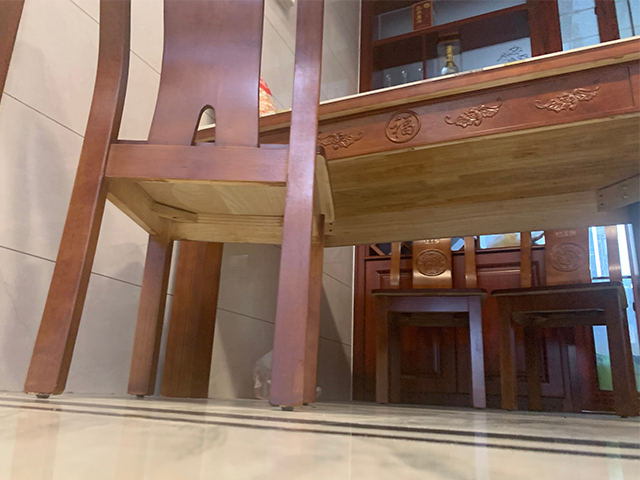stool: (23, 1, 336, 410), (491, 223, 640, 419), (371, 236, 489, 410)
table: (159, 35, 640, 399)
